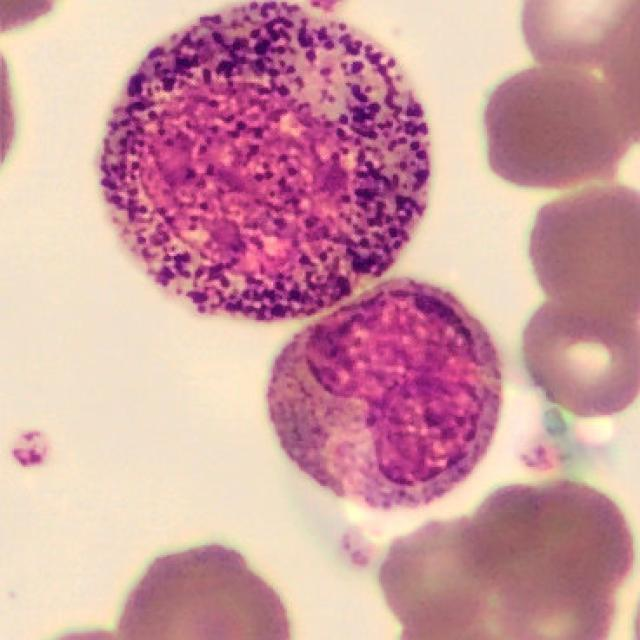Metamielocito: (266, 278, 504, 514)
Promielocito: (97, 2, 430, 325)
